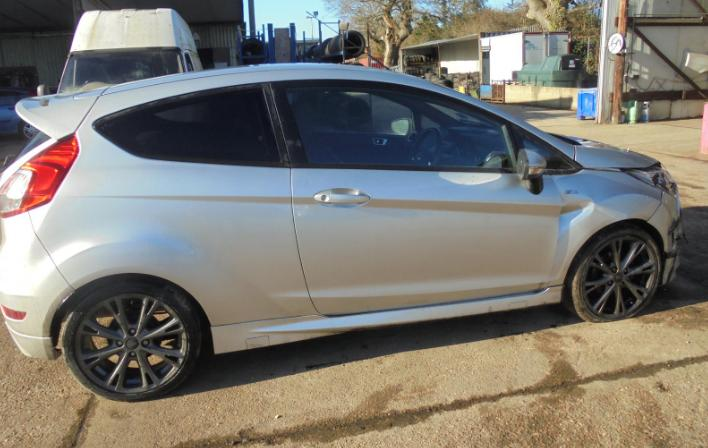Back-bumper: (0, 211, 75, 361)
Back-wheel: (62, 282, 202, 403)
Back-window: (92, 83, 289, 169)
Back-windshield: (13, 130, 51, 163)
Fender: (546, 170, 663, 288)
Front-bumper: (648, 191, 683, 284)
Front-door: (269, 79, 562, 316)
Front-wheel: (564, 226, 662, 323)
Front-window: (283, 86, 514, 169), (515, 127, 574, 169)
Headlight: (622, 162, 678, 199)
Hood: (551, 133, 660, 171)
Mirror: (517, 149, 547, 195)
Quarter-panel: (29, 157, 320, 325)
Rocker-panel: (212, 285, 562, 353)
Roof: (83, 62, 415, 125)
Tail-light: (0, 133, 80, 219)
Trunk: (0, 86, 109, 187)
